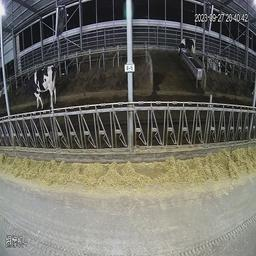cow: (23, 66, 59, 111), (177, 37, 196, 59), (56, 59, 74, 77), (207, 54, 221, 77), (221, 57, 233, 78)
